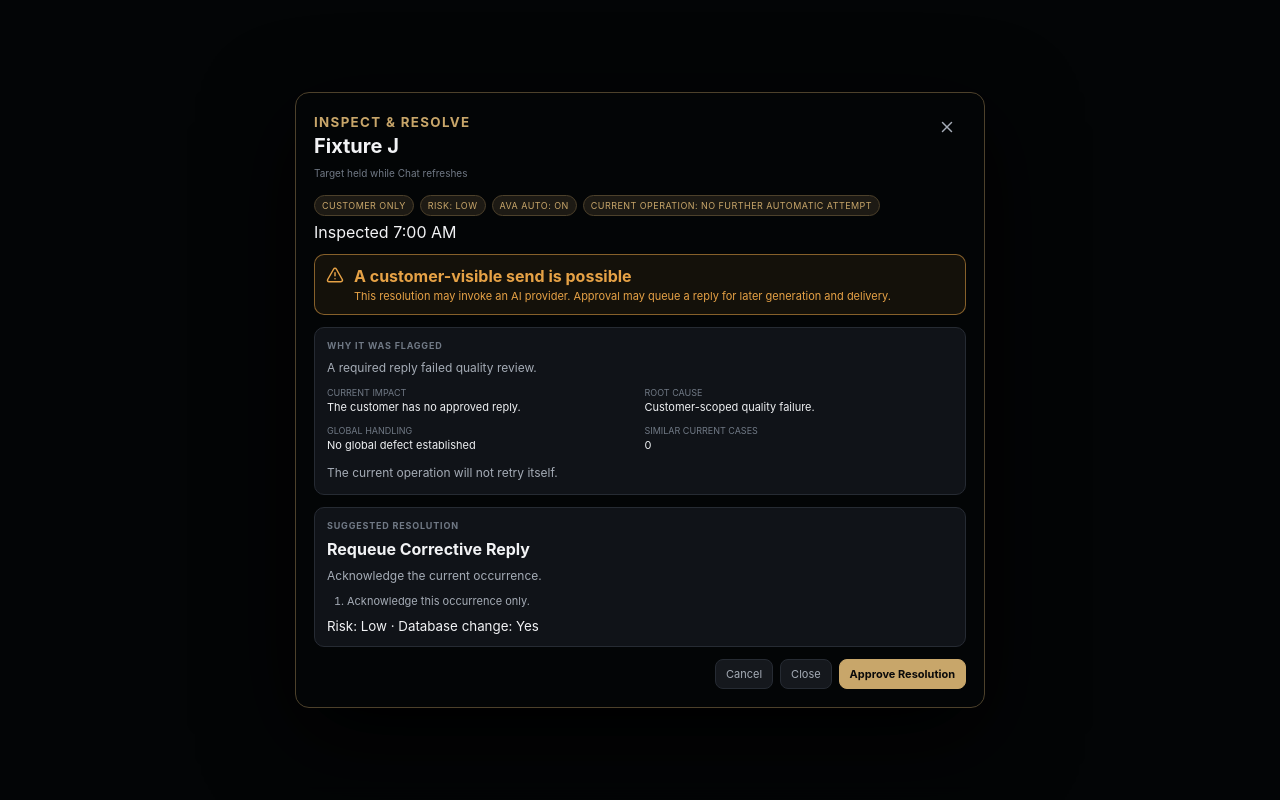
Test: Inspect & Resolve › does not claim a requeued reply was sent
Click the button "Approve Resolution" at x=902, y=674, box [839, 659, 966, 689]
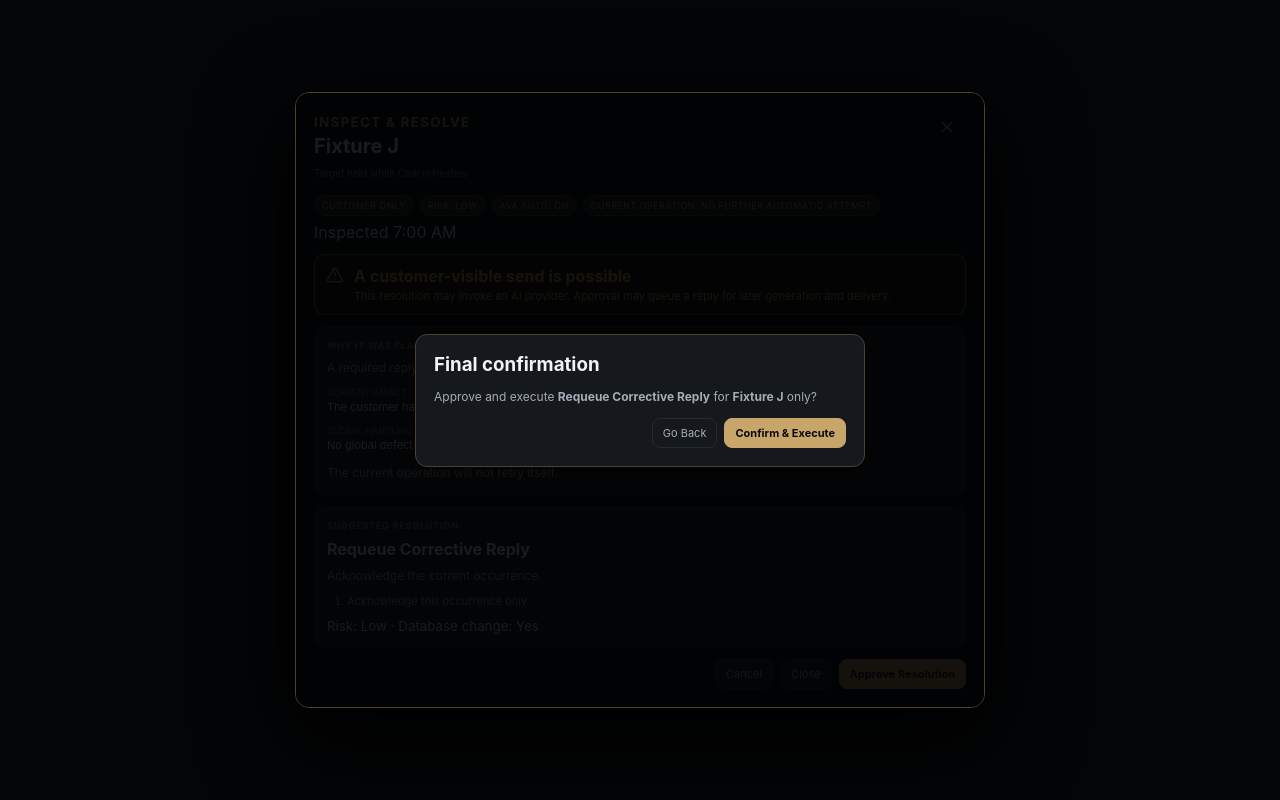
Click the button "Confirm & Execute" at x=785, y=432, box [724, 418, 846, 448]
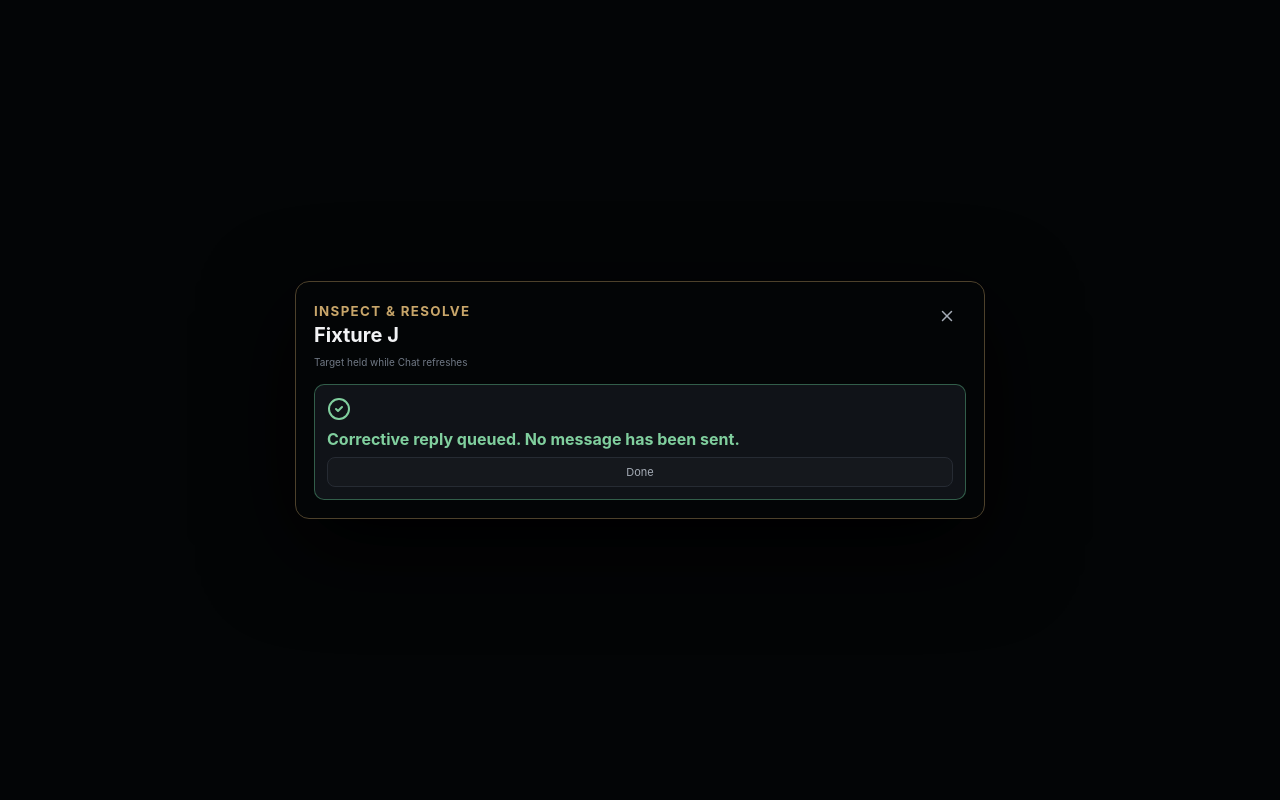
Now the text "Corrective reply queued. No message has been sent." is shown, box [327, 429, 740, 449]
